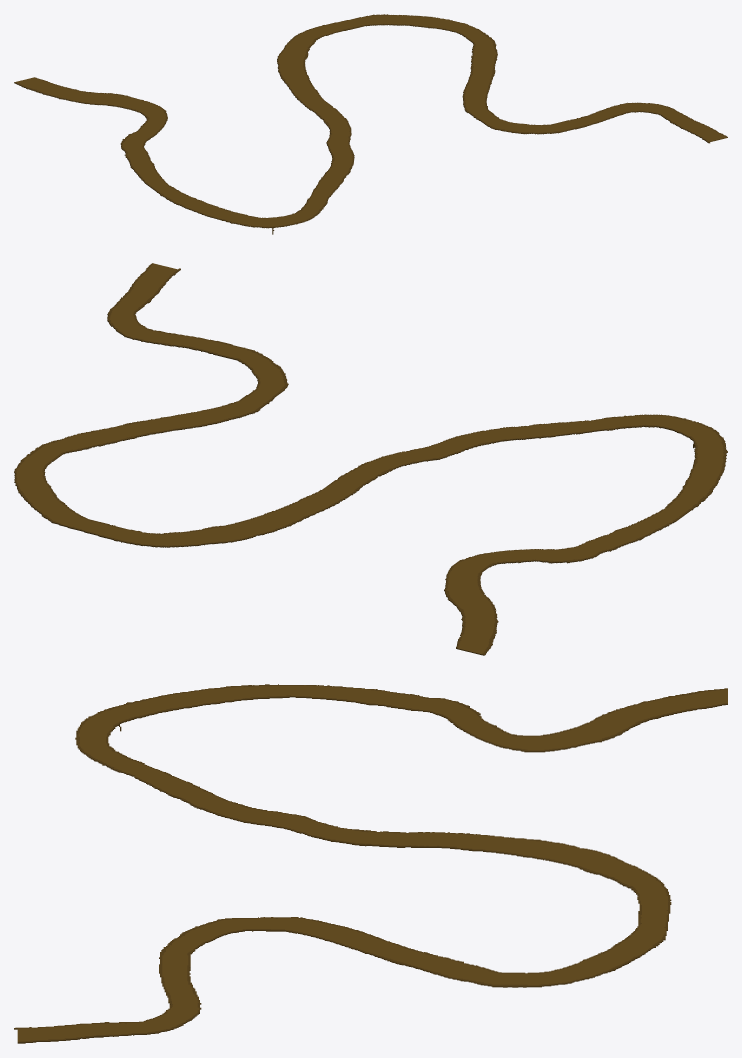
Rendered from path.fbx.
The picture shows the model from 3 angles, top to bottom: view 1: azimuth 30°, elevation 25°; view 2: azimuth 150°, elevation 25°; view 3: azimuth 270°, elevation 25°; orthographic projection. The views are drawn at different scales.
Visible parts, largest first — view 1: path_8, path_7, path_13, path_12, path_2, path_18, path_1, path_9, path_0, path_21, path_4, path_6 (+7 smaller); view 2: path_7, path_12, path_8, path_13, path_1, path_2, path_18, path_0, path_9, path_4, path_21, path_6 (+8 smaller); view 3: path_7, path_8, path_12, path_13, path_1, path_2, path_18, path_0, path_21, path_9, path_4, path_6 (+9 smaller).
Part boxes in pixels (x1=…): path_8: x1=471, y1=110, x2=587, y2=134; path_7: x1=462, y1=60, x2=495, y2=114; path_13: x1=335, y1=14, x2=448, y2=30; path_12: x1=277, y1=22, x2=344, y2=65; path_2: x1=156, y1=187, x2=249, y2=222; path_18: x1=14, y1=77, x2=106, y2=105; path_1: x1=306, y1=102, x2=351, y2=148; path_9: x1=578, y1=102, x2=677, y2=125; path_0: x1=124, y1=146, x2=172, y2=191; path_21: x1=114, y1=99, x2=167, y2=137; path_4: x1=321, y1=144, x2=354, y2=189; path_6: x1=262, y1=197, x2=328, y2=227; path_7: x1=97, y1=400, x2=263, y2=439; path_12: x1=101, y1=525, x2=257, y2=547; path_8: x1=201, y1=341, x2=288, y2=406; path_13: x1=16, y1=478, x2=115, y2=536; path_1: x1=327, y1=446, x2=455, y2=493; path_2: x1=667, y1=447, x2=726, y2=510; path_18: x1=456, y1=594, x2=498, y2=655; path_0: x1=575, y1=505, x2=690, y2=553; path_9: x1=107, y1=305, x2=214, y2=350; path_4: x1=429, y1=422, x2=563, y2=453; path_21: x1=445, y1=549, x2=543, y2=589; path_6: x1=591, y1=414, x2=710, y2=440; path_7: x1=282, y1=917, x2=430, y2=972; path_8: x1=159, y1=917, x2=282, y2=974; path_12: x1=579, y1=848, x2=671, y2=910; path_13: x1=579, y1=911, x2=670, y2=974; path_1: x1=282, y1=813, x2=430, y2=847; path_2: x1=134, y1=684, x2=282, y2=718; path_18: x1=589, y1=688, x2=727, y2=723; path_0: x1=282, y1=685, x2=430, y2=712; path_21: x1=453, y1=722, x2=579, y2=752; path_9: x1=134, y1=973, x2=201, y2=1034; path_4: x1=152, y1=785, x2=282, y2=828; path_6: x1=75, y1=722, x2=134, y2=776.
Bounding box in the file's own units: 719 × 11 × 606.
23 materials, 23 textured.
